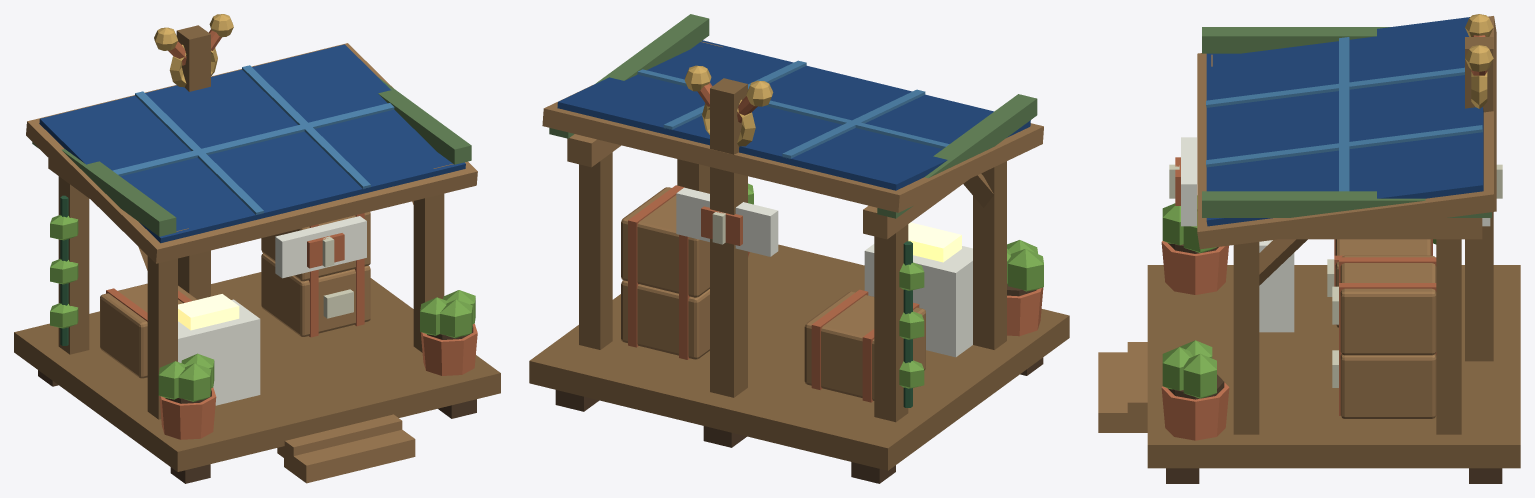
File: depot.glb
The picture shows the model from 3 angles, left to right: view 1: azimuth 30°, elevation 25°; view 2: azimuth 150°, elevation 25°; view 3: azimuth 270°, elevation 25°; orthographic projection. The views are drawn at different scales.
Parts seen in each view (by area): view 1: Depot_solar_canopy_blue_glass, Depot_loading_platform, Depot_solar_canopy_timber_frame, Depot_dispatch_counter, Depot_cargo_crate.001, Depot_canopy_column, Depot_access_step, Depot_canopy_column.002, Depot_cargo_crate, Depot_canopy_column.001, Depot_airship_mast, Depot_freight_sign (+23 smaller); view 2: Depot_loading_platform, Depot_solar_canopy_blue_glass, Depot_solar_canopy_timber_frame, Depot_airship_mast, Depot_canopy_column.003, Depot_canopy_column, Depot_dispatch_counter, Depot_canopy_column.001, Depot_cargo_crate, Depot_cargo_crate.002, Depot_cargo_crate.001, Depot_canopy_moss_edge (+27 smaller); view 3: Depot_loading_platform, Depot_solar_canopy_blue_glass, Depot_solar_canopy_timber_frame, Depot_cargo_crate.002, Depot_cargo_crate.001, Depot_canopy_column.002, Depot_canopy_column.003, Depot_airship_mast, Depot_canopy_moss_edge.001, Depot_canopy_moss_edge, Depot_access_step, Depot_canopy_side_beam.001 (+21 smaller).
Part boxes in pixels (x1=…): Depot_solar_canopy_blue_glass: x1=39, y1=44, x2=465, y2=243; Depot_loading_platform: x1=14, y1=272, x2=500, y2=471; Depot_solar_canopy_timber_frame: x1=26, y1=43, x2=477, y2=263; Depot_dispatch_counter: x1=178, y1=299, x2=260, y2=405; Depot_cargo_crate.001: x1=261, y1=253, x2=370, y2=336; Depot_canopy_column: x1=147, y1=256, x2=177, y2=419; Depot_access_step: x1=284, y1=429, x2=415, y2=483; Depot_canopy_column.002: x1=413, y1=193, x2=444, y2=352; Depot_cargo_crate: x1=100, y1=283, x2=197, y2=378; Depot_canopy_column.001: x1=58, y1=176, x2=89, y2=354; Depot_airship_mast: x1=176, y1=25, x2=210, y2=299; Depot_freight_sign: x1=275, y1=216, x2=366, y2=278; Depot_loading_platform: x1=529, y1=244, x2=1069, y2=470; Depot_solar_canopy_blue_glass: x1=557, y1=40, x2=1030, y2=190; Depot_solar_canopy_timber_frame: x1=542, y1=85, x2=1043, y2=212; Depot_airship_mast: x1=710, y1=78, x2=747, y2=397; Depot_canopy_column.003: x1=579, y1=152, x2=612, y2=349; Depot_canopy_column: x1=973, y1=161, x2=1006, y2=349; Depot_dispatch_counter: x1=864, y1=244, x2=972, y2=357; Depot_canopy_column.001: x1=874, y1=224, x2=908, y2=422; Depot_cargo_crate: x1=804, y1=291, x2=925, y2=400; Depot_cargo_crate.002: x1=621, y1=187, x2=709, y2=297; Depot_cargo_crate.001: x1=621, y1=280, x2=709, y2=359; Depot_canopy_moss_edge: x1=877, y1=94, x2=1037, y2=218; Depot_loading_platform: x1=1147, y1=265, x2=1520, y2=468; Depot_solar_canopy_blue_glass: x1=1206, y1=17, x2=1483, y2=226; Depot_solar_canopy_timber_frame: x1=1197, y1=16, x2=1496, y2=249; Depot_cargo_crate.002: x1=1340, y1=255, x2=1436, y2=355; Depot_cargo_crate.001: x1=1340, y1=354, x2=1436, y2=418; Depot_canopy_column.002: x1=1233, y1=242, x2=1259, y2=434; Depot_canopy_column.003: x1=1436, y1=239, x2=1461, y2=434; Depot_airship_mast: x1=1465, y1=37, x2=1493, y2=361; Depot_canopy_moss_edge.001: x1=1202, y1=191, x2=1491, y2=217; Depot_canopy_moss_edge: x1=1202, y1=27, x2=1390, y2=53; Depot_access_step: x1=1098, y1=352, x2=1147, y2=432; Depot_canopy_side_beam.001: x1=1280, y1=218, x2=1482, y2=239.
Bounding box in the file's own units: 2.67 × 2.58 × 2.65.
